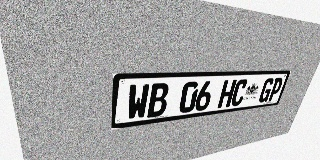0: (178, 81, 200, 114)
6: (194, 81, 215, 112)
B: (147, 83, 170, 118)
C: (230, 79, 249, 107)
G: (257, 78, 275, 103)
H: (217, 80, 237, 108)
P: (267, 77, 284, 102)
W: (126, 84, 150, 121)
